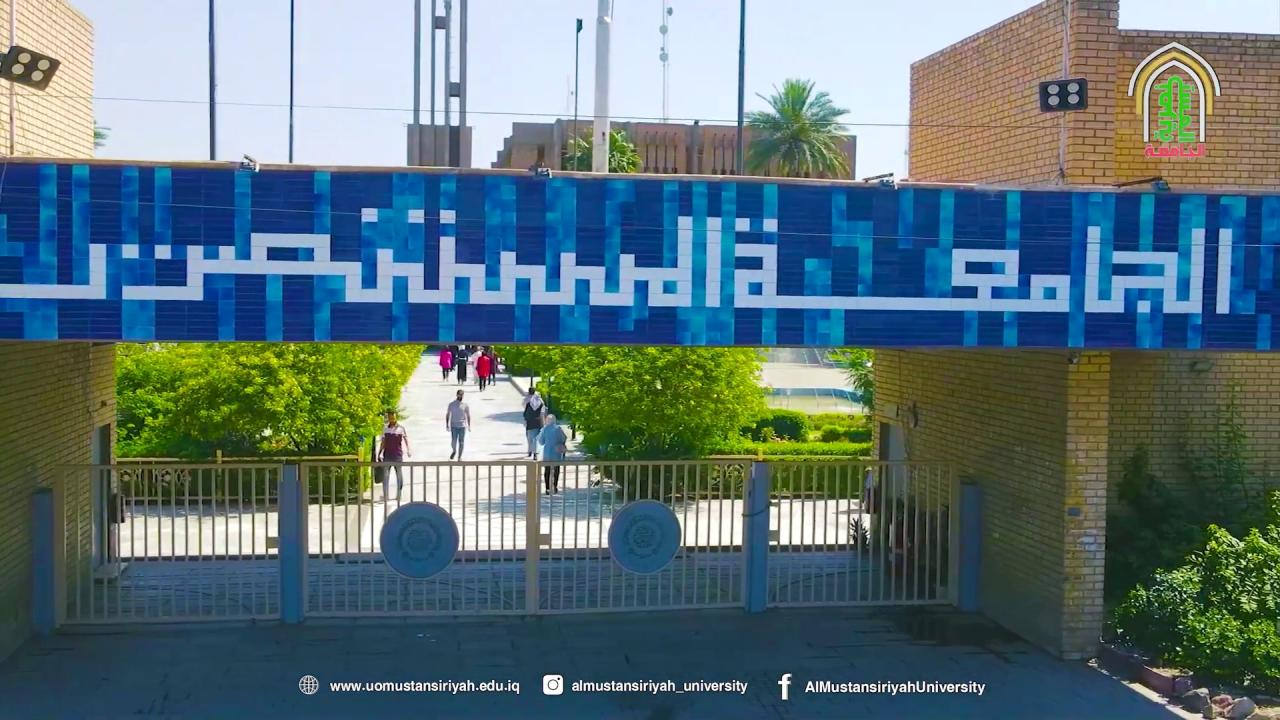fountain: (760, 386, 866, 417)
person: (375, 410, 411, 503), (536, 413, 568, 495), (445, 389, 471, 460), (521, 386, 545, 458), (438, 345, 452, 381)
tree: (112, 339, 427, 503), (533, 344, 775, 501), (1103, 487, 1279, 700), (741, 76, 851, 178), (493, 343, 577, 439), (560, 124, 642, 173), (826, 346, 876, 415)
